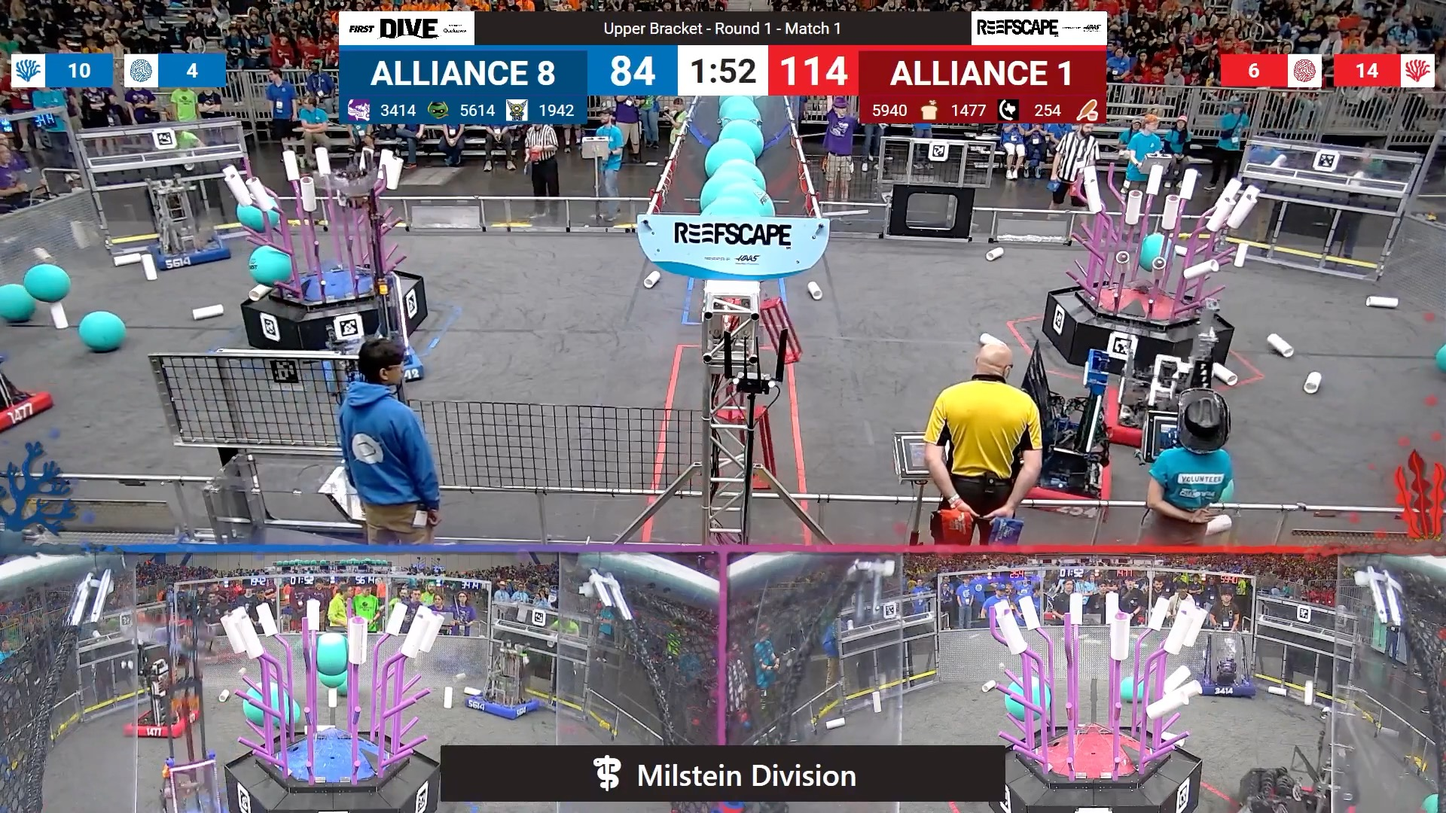bumpers: (960, 436, 1117, 517), (1092, 383, 1232, 459), (314, 341, 437, 390), (1227, 774, 1363, 813), (0, 379, 64, 438), (459, 686, 546, 726), (140, 243, 240, 277), (123, 702, 203, 744), (1187, 669, 1264, 703)
